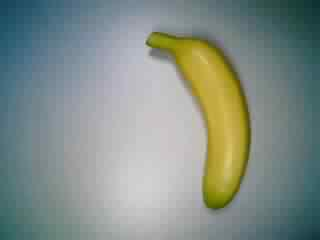banana: (142, 22, 263, 212)
